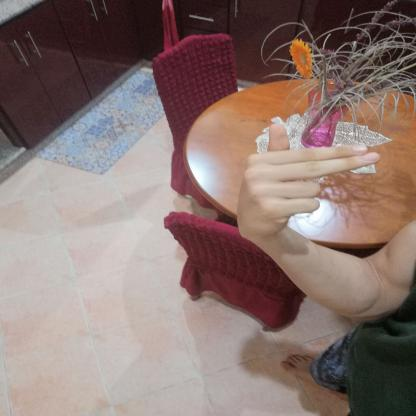GHAYN: (228, 117, 388, 243)
